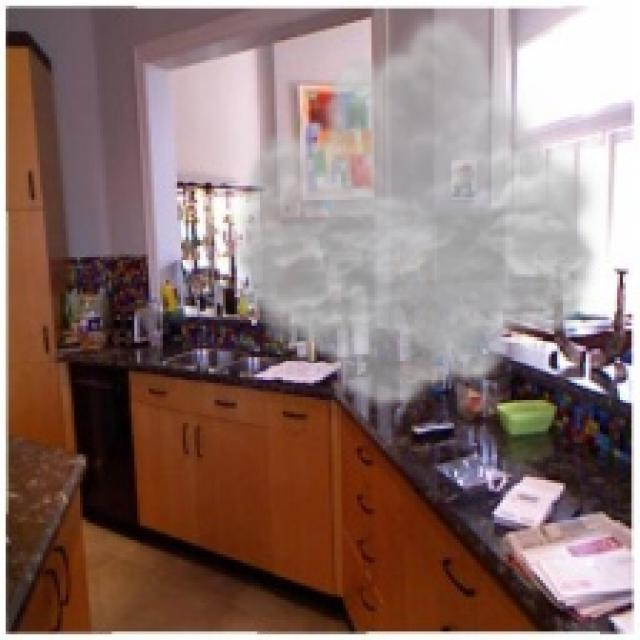smoke: (225, 9, 606, 412)
